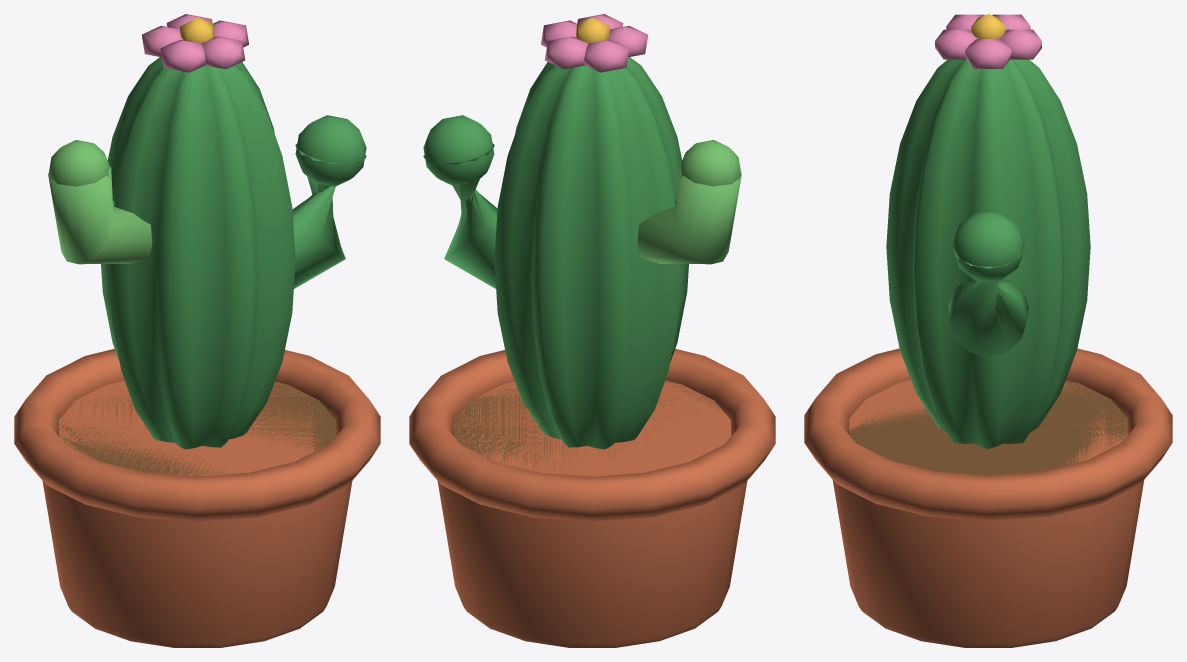
File: cacto.glb
3 renders of one model, left to right at view 1: azimuth 30°, elevation 25°; view 2: azimuth 150°, elevation 25°; view 3: azimuth 270°, elevation 25°, orthographic.
Visible parts, largest first — view 1: cacto; view 2: cacto; view 3: cacto.
Boxes of the visible parts, bbox=[...] form: cacto: bbox=[14, 14, 380, 647]; cacto: bbox=[409, 14, 775, 647]; cacto: bbox=[804, 14, 1172, 647].
Size of the model in its own units: 0.4142 by 0.702 by 0.4038.
